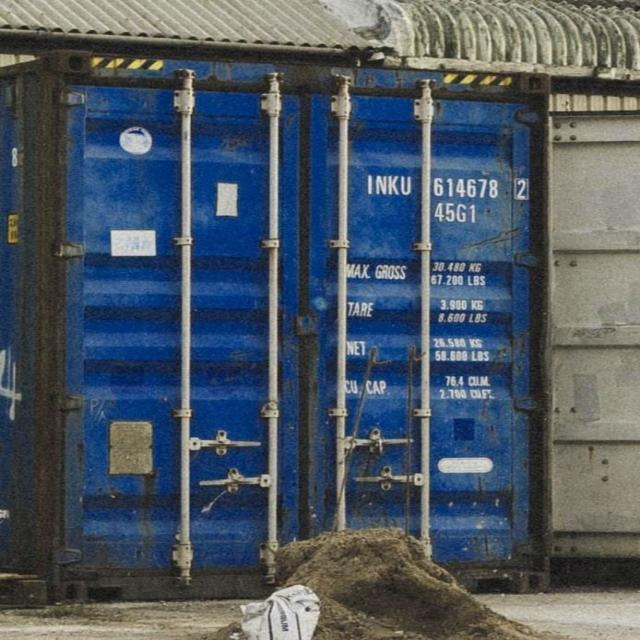ISO: (436, 204, 482, 222)
container_number: (369, 175, 526, 200)
